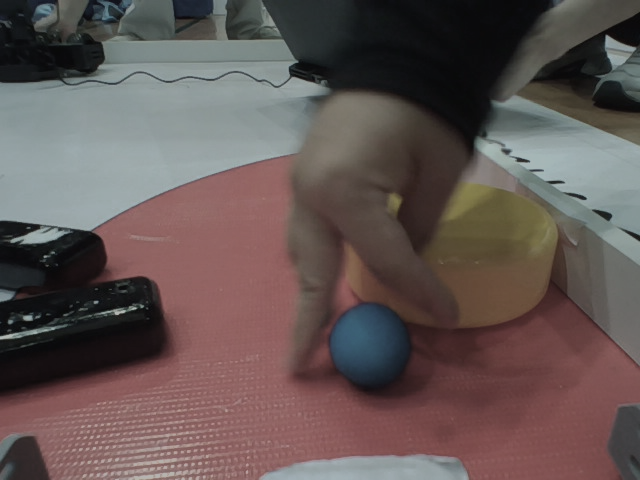black: (1, 272, 193, 400), (1, 200, 110, 287)
blue: (317, 295, 418, 387)
yellow: (325, 164, 594, 317)
